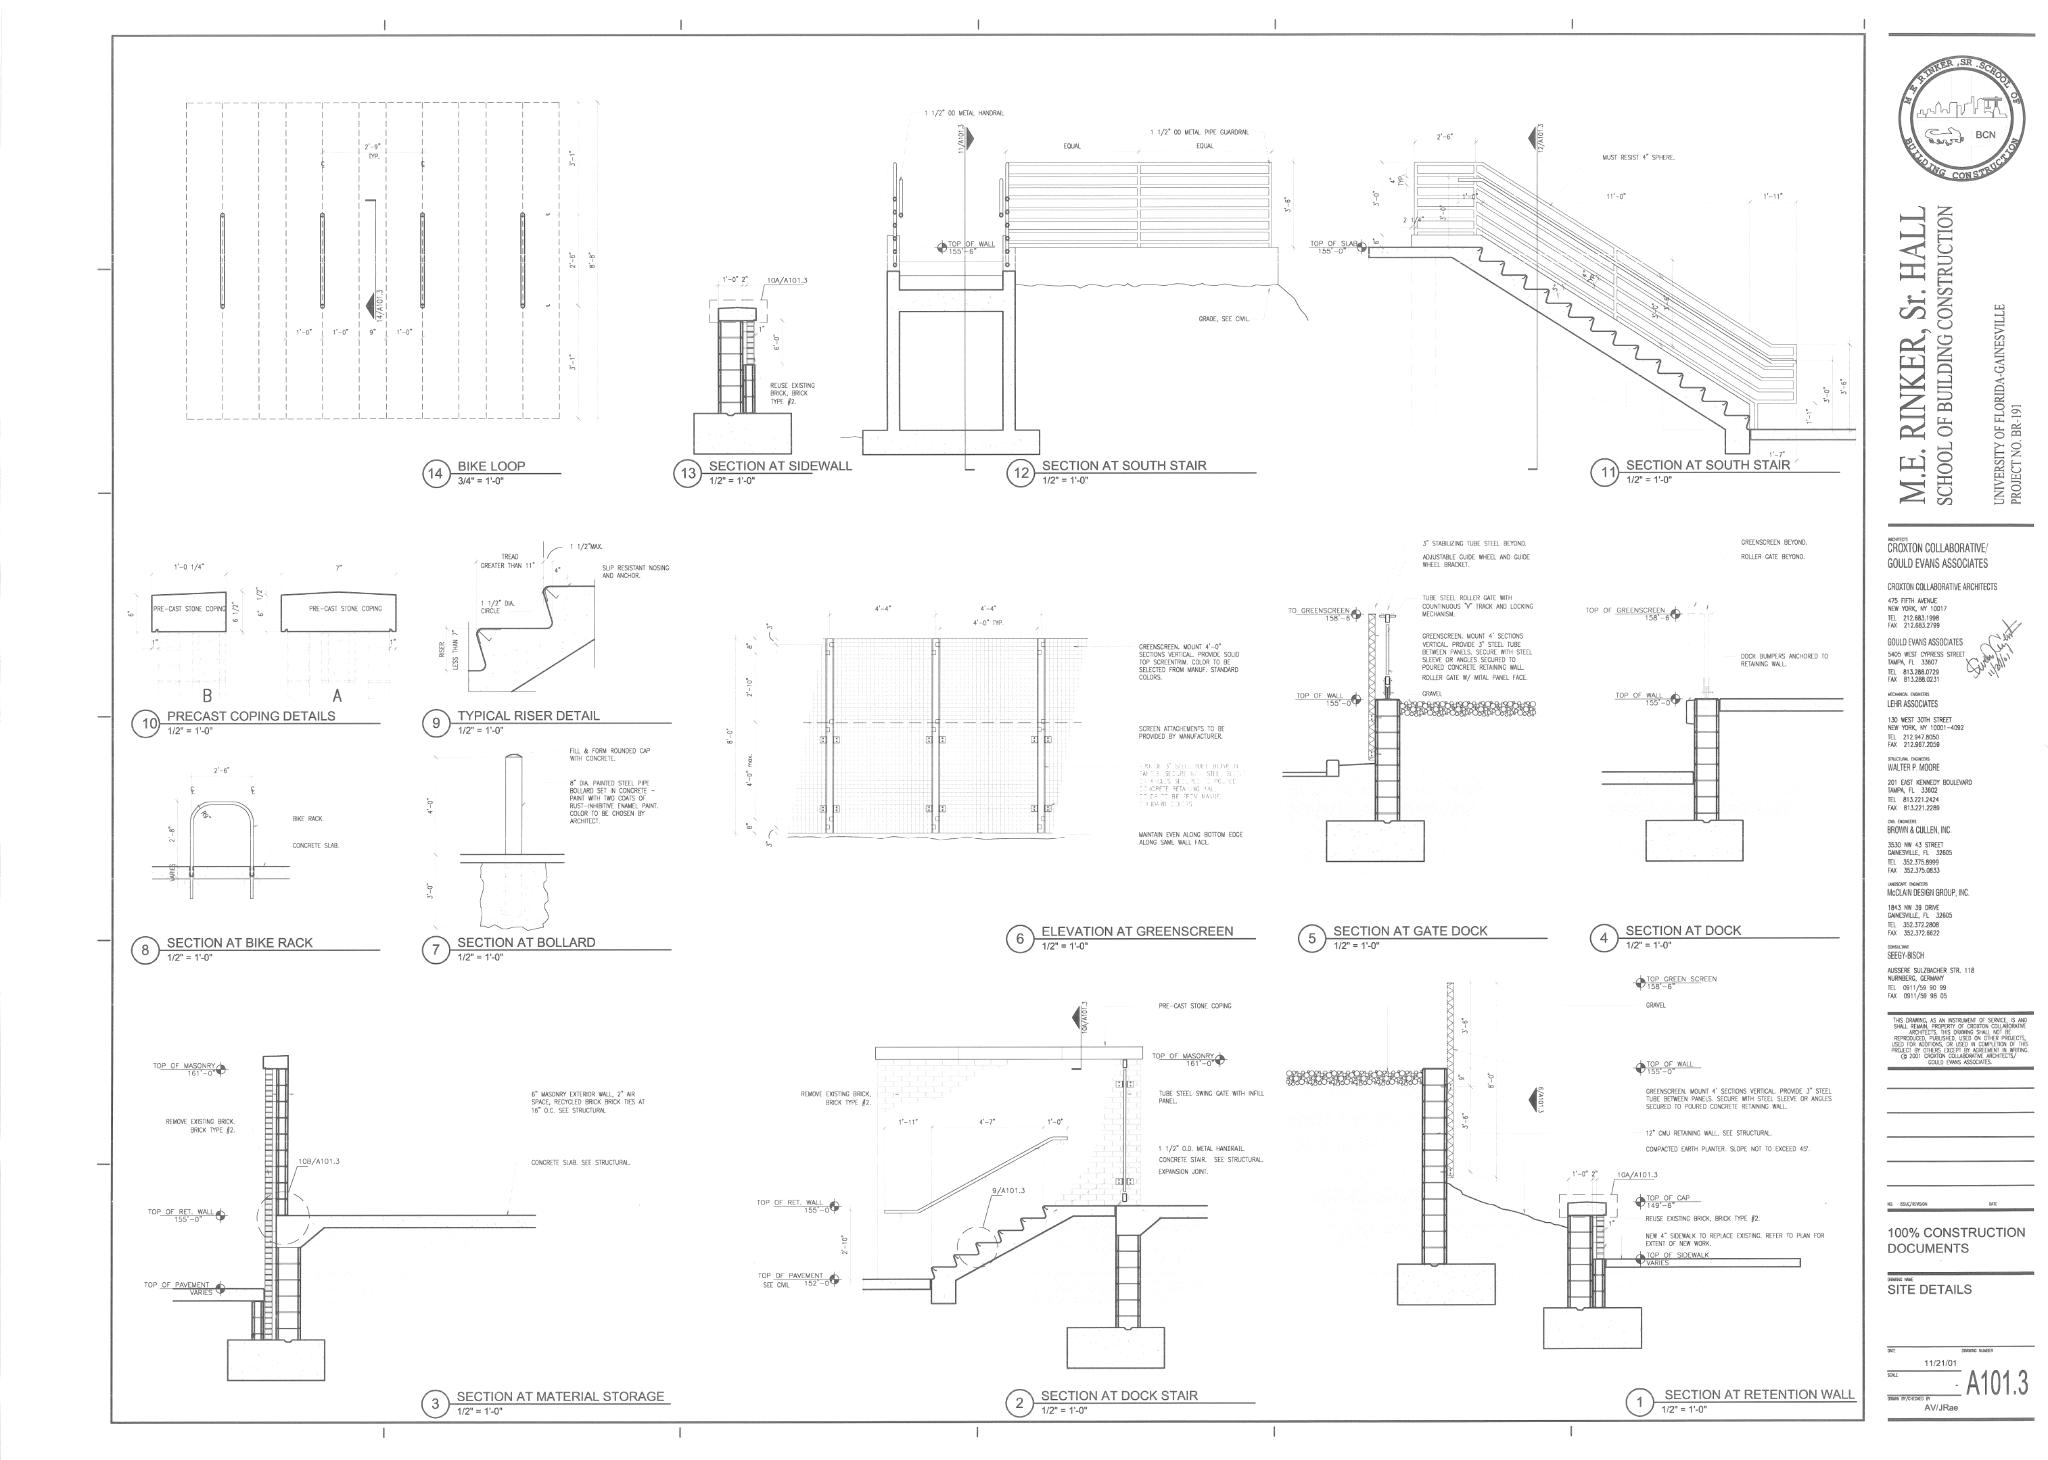elevation: (956, 119, 977, 474), (1527, 122, 1547, 474), (365, 194, 386, 324), (1073, 999, 1090, 1073), (1528, 1084, 1547, 1117)
title: (1297, 918, 1550, 956), (1005, 918, 1258, 956), (128, 705, 382, 741), (130, 932, 381, 969), (420, 705, 676, 739), (1002, 457, 1258, 491), (420, 931, 675, 965), (1588, 920, 1841, 954), (419, 1387, 675, 1420), (1002, 1387, 1258, 1420), (1623, 1384, 1860, 1419), (422, 455, 564, 490)
